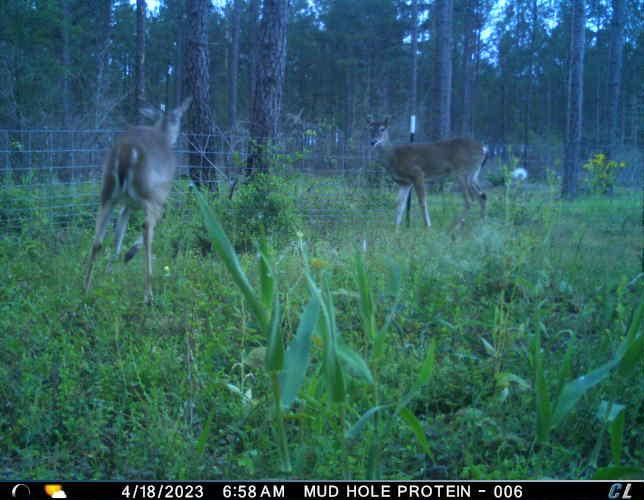Deer: (78, 95, 196, 310), (364, 112, 493, 232)
